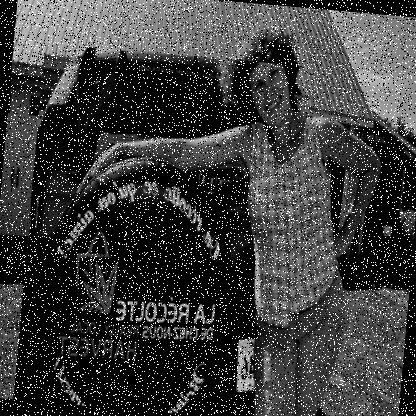Car: (12, 43, 312, 415)
